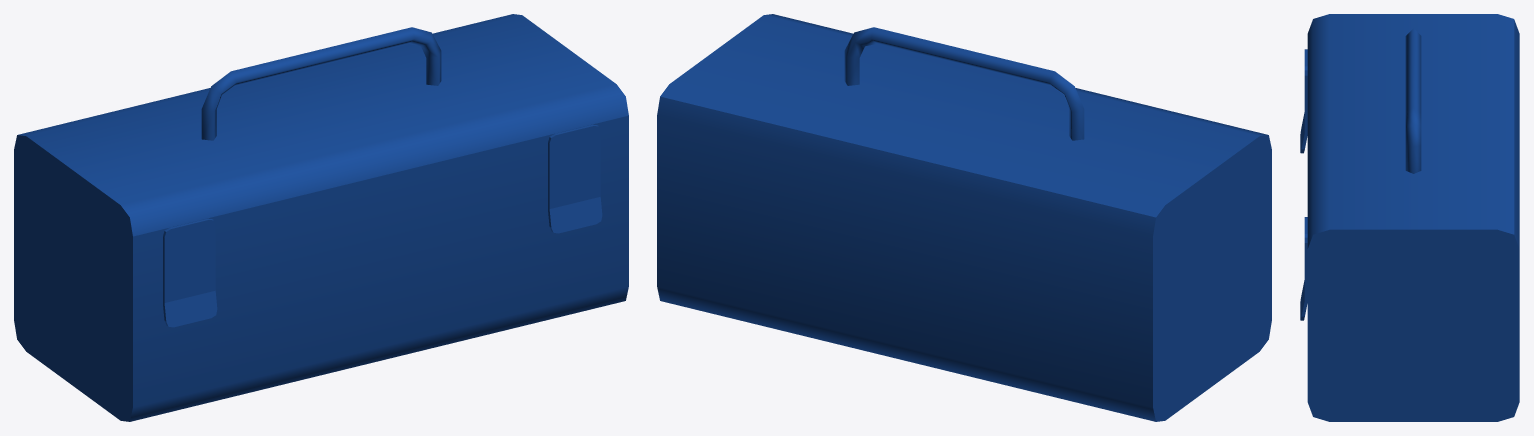
The model's file is SM_Toolbox.fbx.
The picture shows the model from 3 angles, left to right: view 1: azimuth 30°, elevation 25°; view 2: azimuth 150°, elevation 25°; view 3: azimuth 270°, elevation 25°; orthographic projection. The views are drawn at different scales.
Parts seen in each view (by area): view 1: SM_Toolbox, SM_Toolbox_Top; view 2: SM_Toolbox, SM_Toolbox_Top; view 3: SM_Toolbox_Top, SM_Toolbox.
Part boxes in pixels (box(x1,y1,x2,y2)): SM_Toolbox: box(14, 115, 628, 421); SM_Toolbox_Top: box(18, 14, 628, 236); SM_Toolbox: box(657, 96, 1271, 421); SM_Toolbox_Top: box(660, 14, 1267, 217); SM_Toolbox_Top: box(1307, 14, 1514, 248); SM_Toolbox: box(1300, 20, 1519, 421).
Bounding box in the file's own units: 65 × 34.63 × 27.93.
